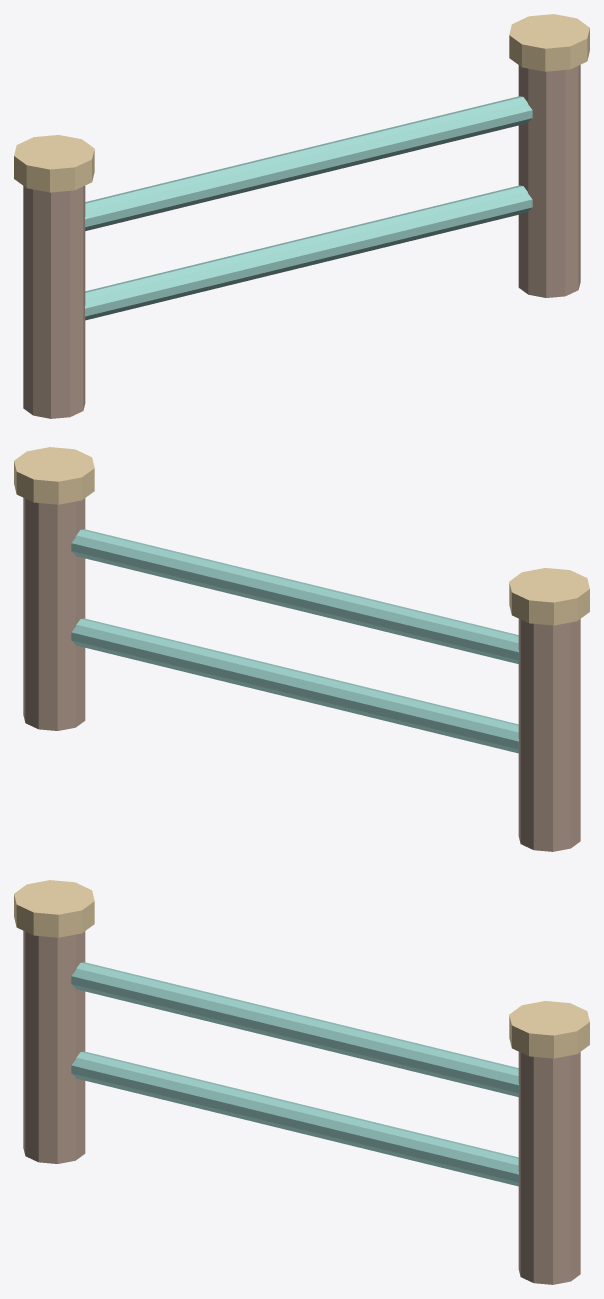
The model's file is fence.glb.
3 views of the same model, one above another, from view 1: azimuth 30°, elevation 25°; view 2: azimuth 150°, elevation 25°; view 3: azimuth 330°, elevation 25° (orthographic).
Visible parts, largest first — view 1: fence_Salvaged_teak, fence_Enamel_jade, fence_Diver_brass; view 2: fence_Salvaged_teak, fence_Enamel_jade, fence_Diver_brass; view 3: fence_Salvaged_teak, fence_Enamel_jade, fence_Diver_brass.
Part boxes in pixels (bbox=[...]): fence_Salvaged_teak: bbox=[23, 65, 580, 418]; fence_Enamel_jade: bbox=[85, 96, 532, 320]; fence_Diver_brass: bbox=[14, 14, 589, 192]; fence_Salvaged_teak: bbox=[23, 498, 580, 851]; fence_Enamel_jade: bbox=[71, 529, 518, 753]; fence_Diver_brass: bbox=[14, 447, 589, 625]; fence_Salvaged_teak: bbox=[23, 931, 580, 1284]; fence_Enamel_jade: bbox=[71, 962, 518, 1186]; fence_Diver_brass: bbox=[14, 880, 589, 1058].
Size of the model in its own units: 2.05 by 0.88 by 0.26.
